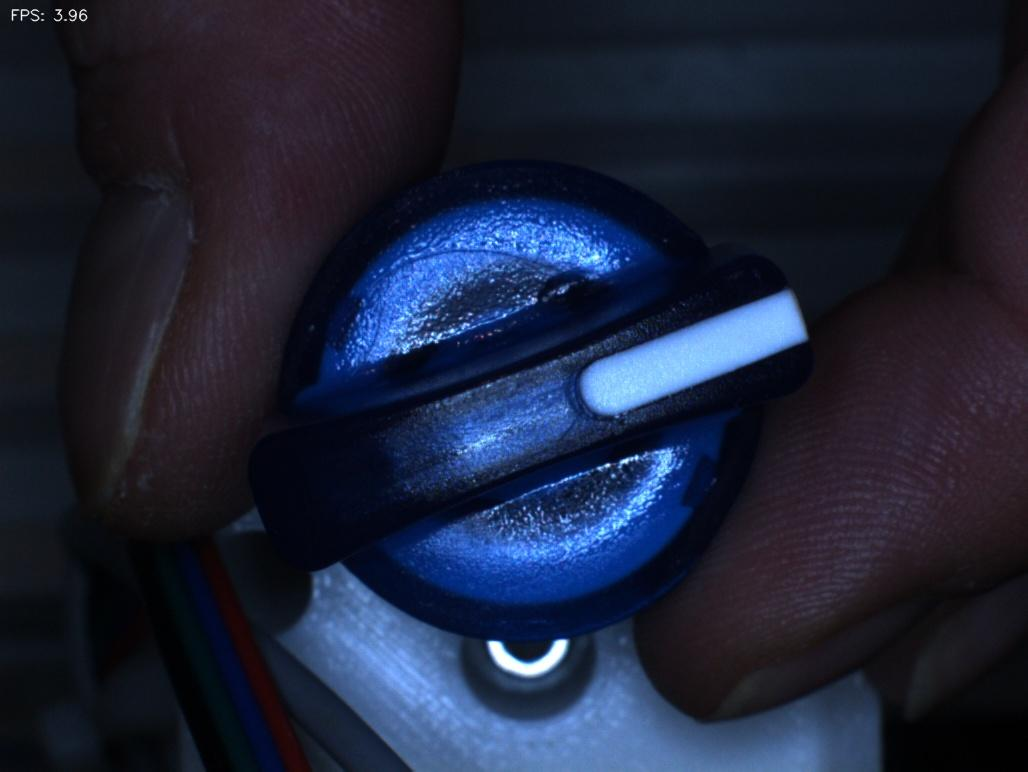Choc: (517, 247, 620, 330)
